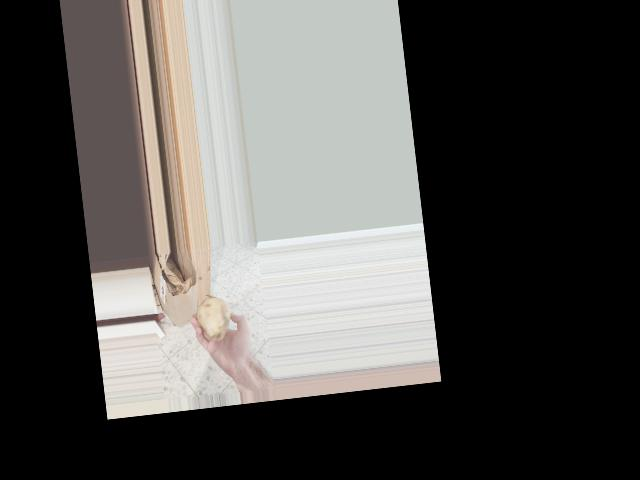onion: (192, 293, 236, 345)
